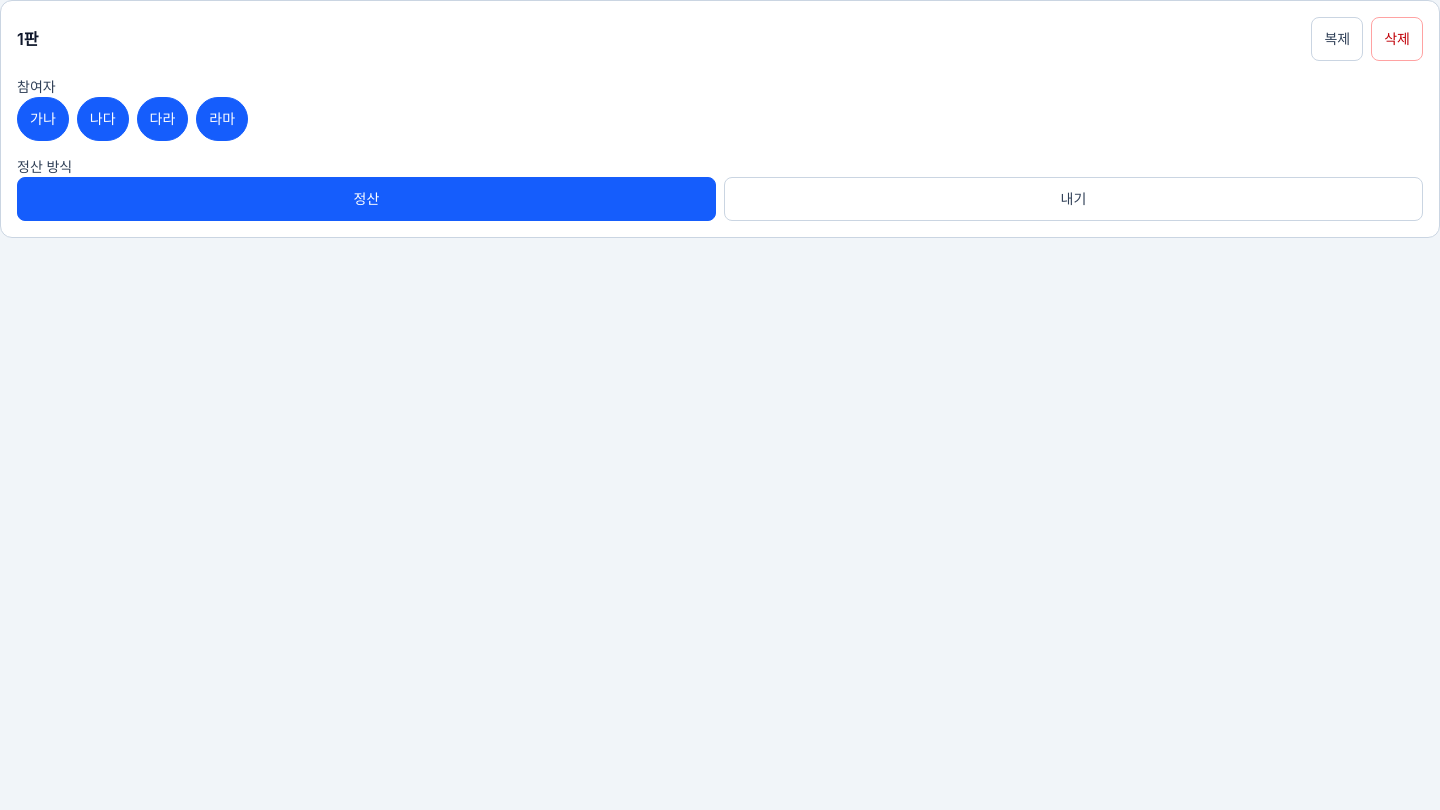
Test: RoundCard — 정산/내기 2단 세그먼트 › 정산 판에서 내기를 누르면 판돈 분배로 시작한다
This screenshot has width=1440, height=810.
Click the button "내기": (1074, 199) [724,177,1423,221]
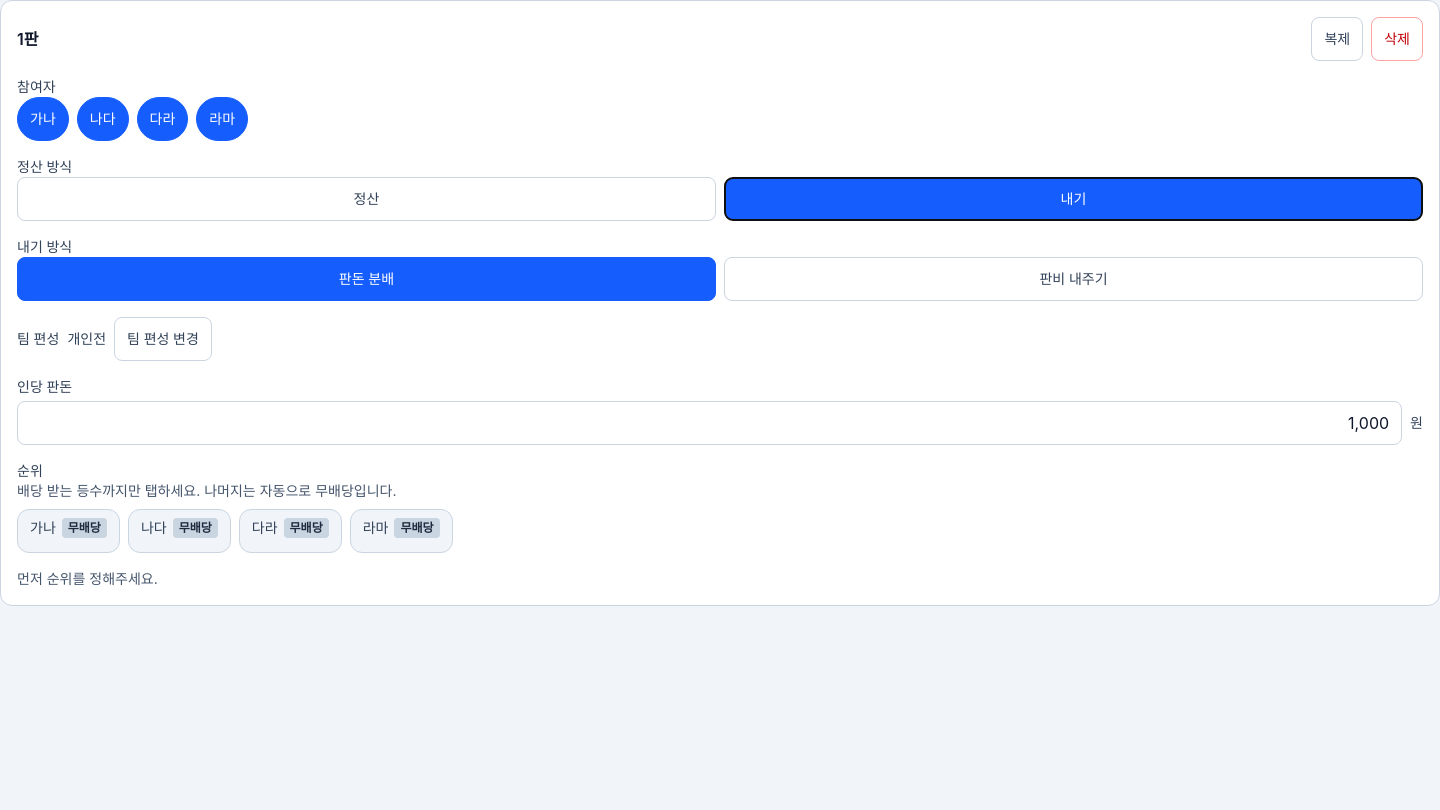
Check: the field labelled "인당 판돈" is shown, box [17,401,1402,445]
